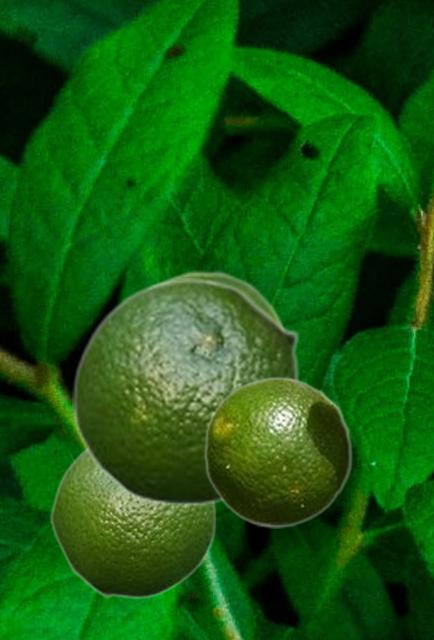calamansi: (72, 278, 300, 506), (49, 449, 216, 598), (203, 376, 352, 527), (148, 270, 287, 326)
